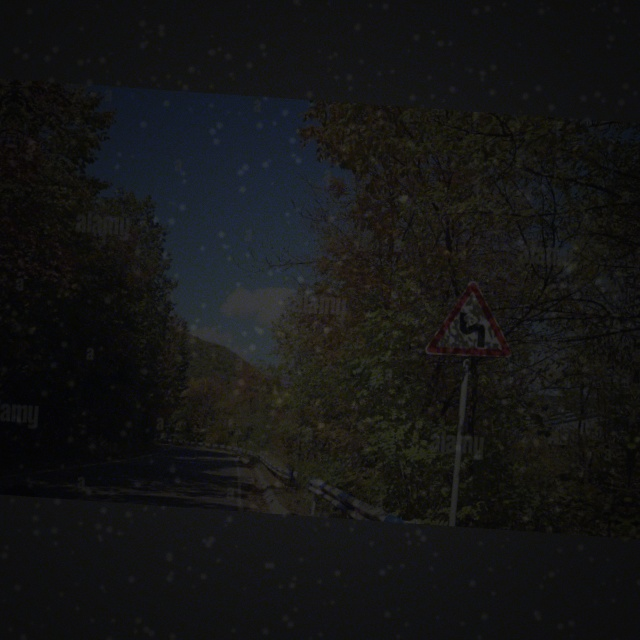Left_Reverse_Bend: (424, 275, 515, 365)
